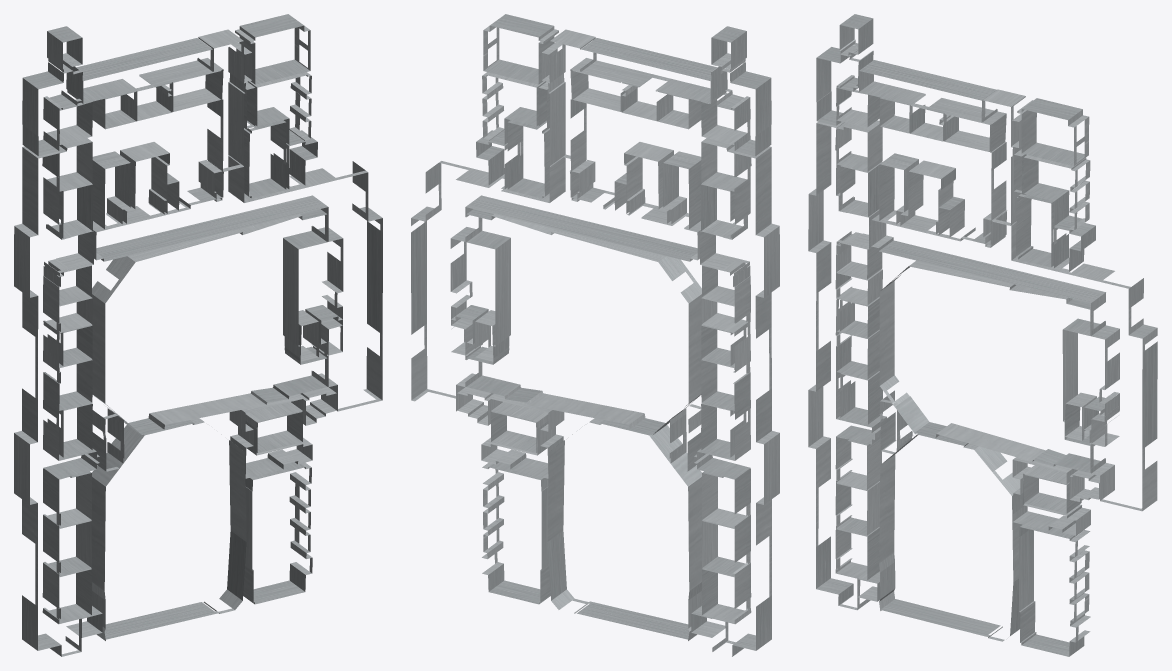
Rendered from wall.obj.
3 views of the same model, side by side, from view 1: azimuth 30°, elevation 25°; view 2: azimuth 150°, elevation 25°; view 3: azimuth 330°, elevation 25° (orthographic). The views are drawn at different scales.
Parts seen in each view (by area): view 1: area2_wall; view 2: area2_wall; view 3: area2_wall.
Part boxes in pixels (box(x1,y1,x2,y2)): area2_wall: box(14, 14, 382, 656); area2_wall: box(411, 14, 779, 656); area2_wall: box(808, 14, 1157, 656).
Size of the model in its own units: 30.8 by 51.2 by 2.4.
1 material, 1 textured.
